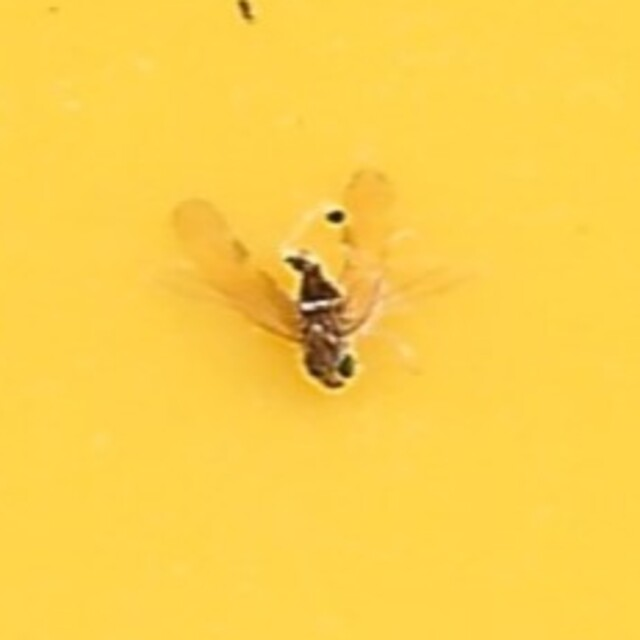Hemiptera: (277, 242, 363, 398)
